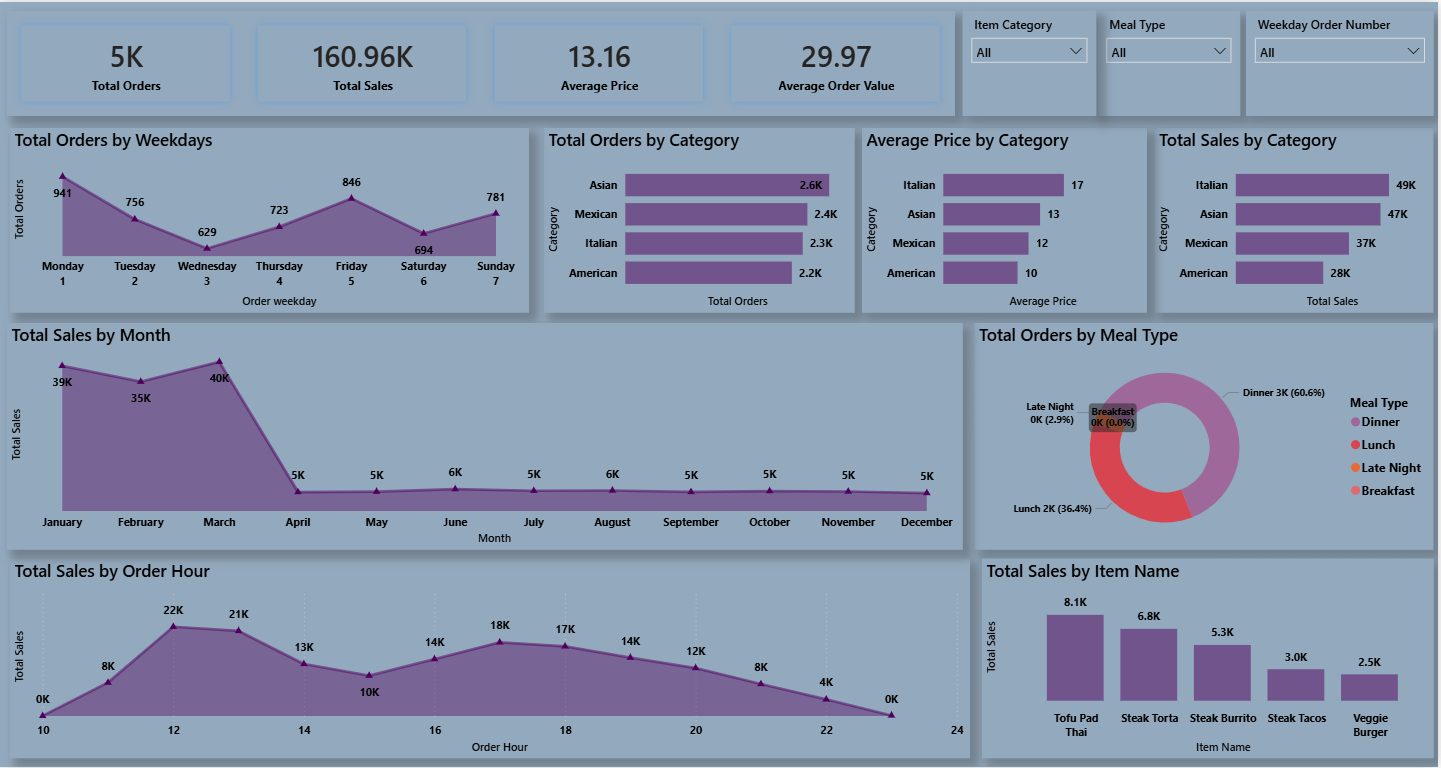

Layout of this report page (visuals, bound fields, positions):
{"tool":"powerbi","page":{"name":"Sales Performance","canvas":[1600,850],"ordinal":0},"visuals":[{"type":"cardVisual","fields":{"Data":["Restaurant Sales.Total Orders","Restaurant Sales.Total Sales","Restaurant Sales.Average Revenue","Restaurant Sales.Average Order Value"]},"box":[10,10,1053.3,116.7],"z":0},{"type":"clusteredBarChart","fields":{"Category":["Restaurant Sales.category"],"Y":["Restaurant Sales.Total Sales"]},"box":[1285,140,310,205],"z":1000},{"type":"clusteredBarChart","fields":{"Category":["Restaurant Sales.category"],"Y":["Restaurant Sales.Total Orders"]},"box":[606.7,140,345,205],"z":2000},{"type":"clusteredBarChart","fields":{"Category":["Restaurant Sales.category"],"Y":["Restaurant Sales.Average Price"]},"box":[960,140,316.7,205],"z":3000},{"type":"areaChart","fields":{"Category":["Restaurant Sales.order_hour"],"Y":["Restaurant Sales.Total Sales"]},"box":[13.3,618.3,1066.7,221.7],"z":4000},{"type":"donutChart","title":"Total Orders by Meal Type","fields":{"Category":["Restaurant Sales.meal_type"],"Y":["Restaurant Sales.Total Orders"]},"box":[1085,356.7,510,251.7],"z":5000},{"type":"clusteredColumnChart","fields":{"Y":["Restaurant Sales.Total Sales"],"Category":["Restaurant Sales.item_Name"]},"box":[1093.3,618.3,501.7,221.7],"z":6000},{"type":"areaChart","title":"Total Orders by Weekdays","fields":{"Category":["Restaurant Sales.weekday_order","Restaurant Sales.order_weekday"],"Y":["Restaurant Sales.Total Orders"]},"box":[13.3,140,576.7,205],"z":7000},{"type":"areaChart","fields":{"Category":["Restaurant Sales.order_date.Variation.Date Hierarchy.Month"],"Y":["Restaurant Sales.Total Sales"]},"box":[10,356.7,1061.7,251.7],"z":8000},{"type":"slicer","fields":{"Values":["Restaurant Sales.meal_type"]},"box":[1221.7,10,158.3,116.7],"z":9000},{"type":"slicer","fields":{"Values":["Restaurant Sales.weekday_order_number"]},"box":[1386.7,10,208.3,116.7],"z":10000},{"type":"slicer","fields":{"Values":["Restaurant Sales.category"]},"box":[1071.7,10,148.3,116.7],"z":11000}]}

Visuals, with their boxes in screenshot pixels (x1, y1, x2, y2), scaled from the page's 1600x850 canvas onto the 1441x768 screenshot:
cardVisual - Restaurant Sales.Total Orders x Restaurant Sales.Total Sales: 9, 9, 958, 114
clusteredBarChart - Restaurant Sales.category x Restaurant Sales.Total Sales: 1157, 126, 1436, 312
clusteredBarChart - Restaurant Sales.category x Restaurant Sales.Total Orders: 546, 126, 857, 312
clusteredBarChart - Restaurant Sales.category x Restaurant Sales.Average Price: 865, 126, 1150, 312
areaChart - Restaurant Sales.order_hour x Restaurant Sales.Total Sales: 12, 559, 973, 759
"Total Orders by Meal Type" donutChart: 977, 322, 1436, 550
clusteredColumnChart - Restaurant Sales.Total Sales x Restaurant Sales.item_Name: 985, 559, 1436, 759
"Total Orders by Weekdays" areaChart: 12, 126, 531, 312
areaChart - Restaurant Sales.order_date.Variation.Date Hierarchy.Month x Restaurant Sales.Total Sales: 9, 322, 965, 550
slicer - Restaurant Sales.meal_type: 1100, 9, 1243, 114
slicer - Restaurant Sales.weekday_order_number: 1249, 9, 1436, 114
slicer - Restaurant Sales.category: 965, 9, 1099, 114
